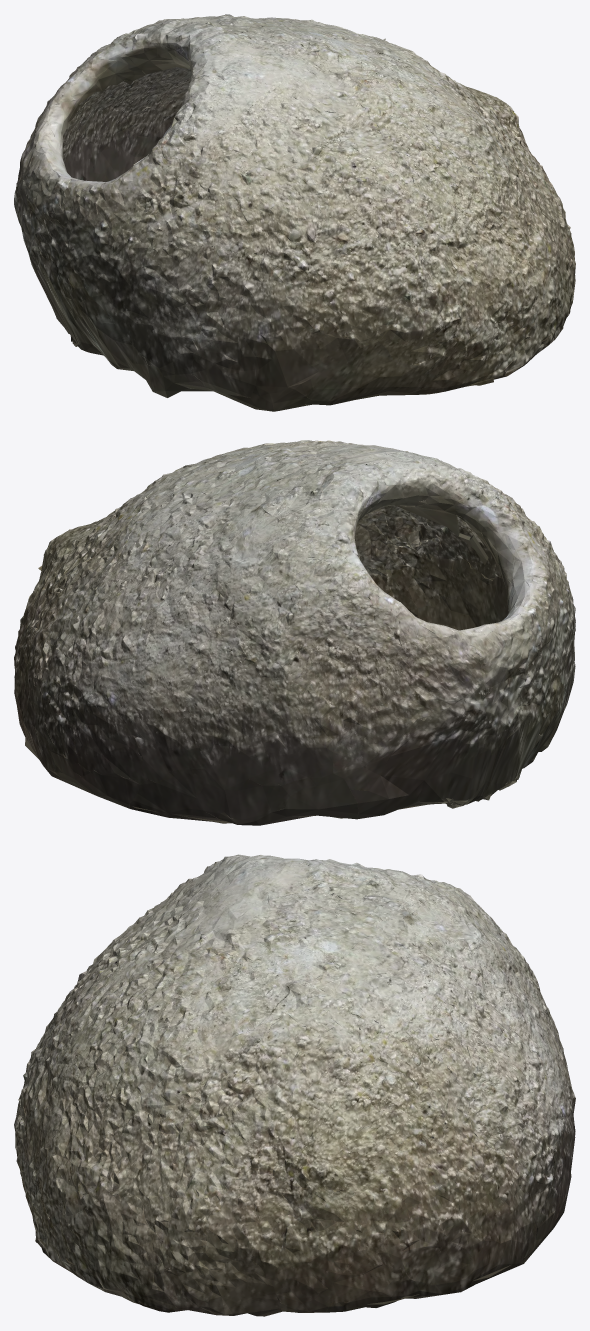
File: FroggyPotfix.glb
3 renders of one model, top to bottom at view 1: azimuth 30°, elevation 25°; view 2: azimuth 150°, elevation 25°; view 3: azimuth 270°, elevation 25°, orthographic. The views are drawn at different scales.
Parts seen in each view (by area): view 1: Mesh_0.001; view 2: Mesh_0.001; view 3: Mesh_0.001.
Boxes of the visible parts, <box> form: Mesh_0.001: <box>14,14,575,411</box>; Mesh_0.001: <box>14,440,575,825</box>; Mesh_0.001: <box>14,854,575,1316</box>.
Size of the model in its own units: 0.1973 by 0.1117 by 0.1858.
1 material, 1 textured.
